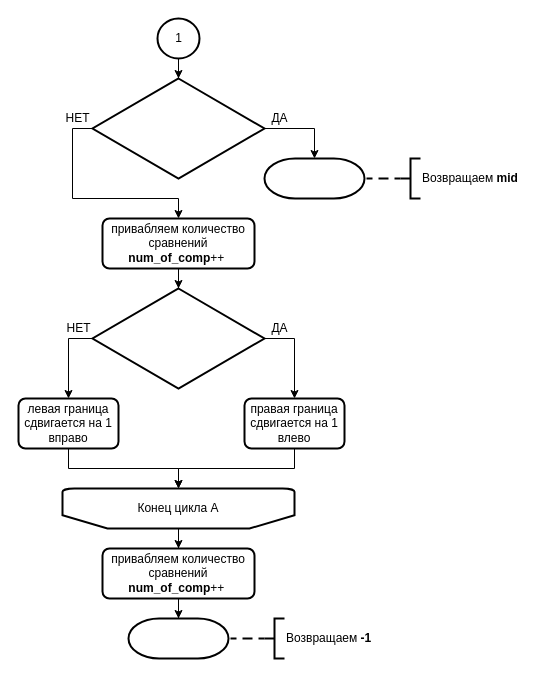
Some shapes in this 535 by 676 pixel diagram are drawn without their labels. Here are the shapes that lost their labels. From the top down, the centre of each, then its label:
At point (178, 128): "если элемент массива под индексом mid равен target".
At point (314, 178): "Конец B".
At point (178, 338): "если элемент массива под индексом mid больше target".
At point (178, 638): "Конец T".
